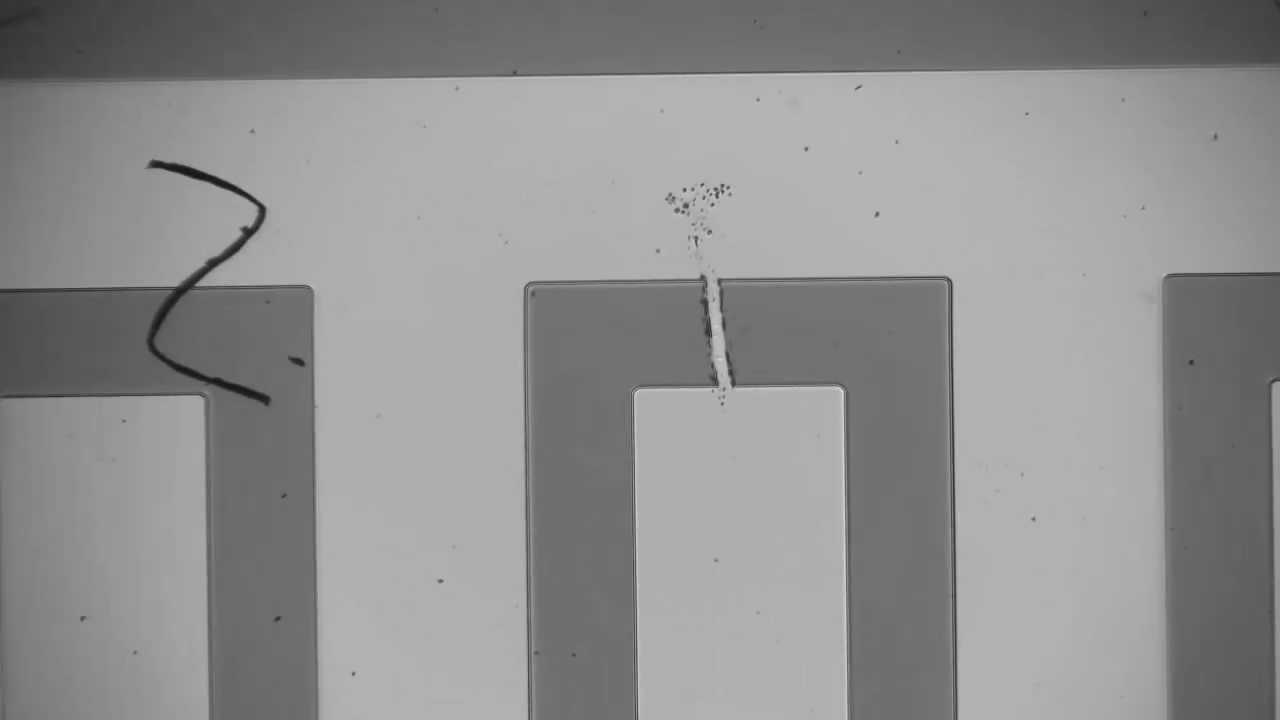Short_circuit: (672, 258, 769, 413)
